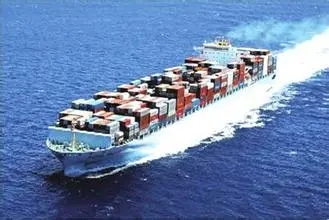Cargoship: (44, 39, 279, 176)
